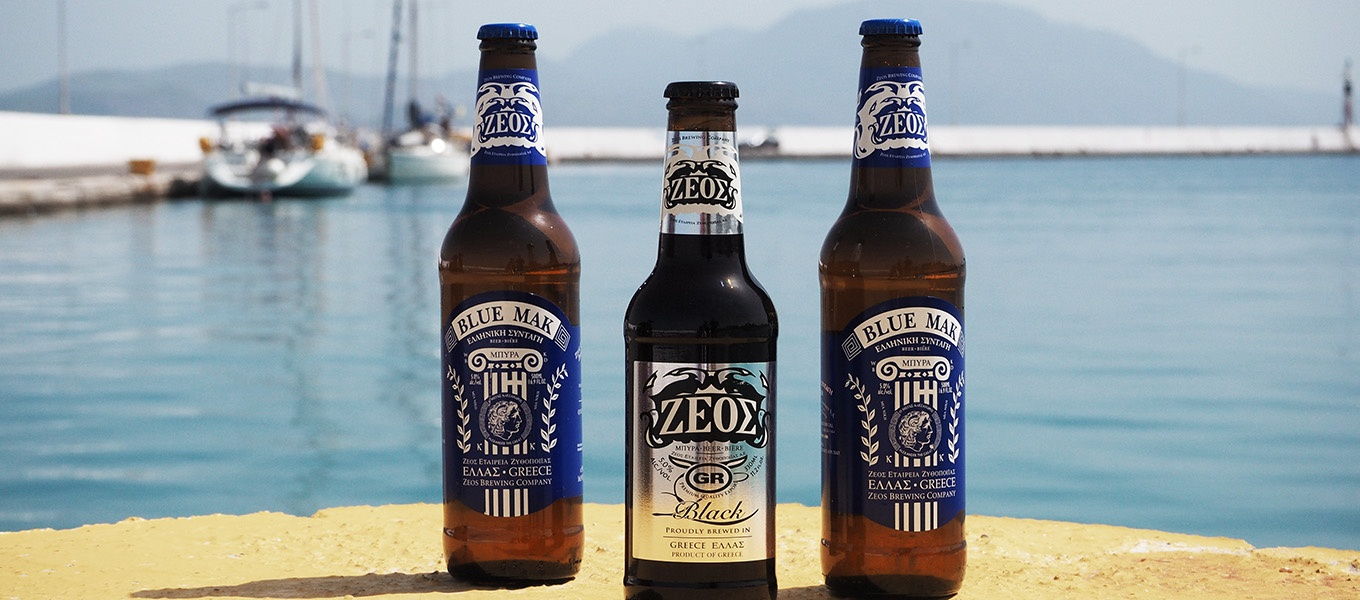beerBottle: (441, 23, 591, 582), (823, 22, 963, 600), (624, 76, 778, 600)
